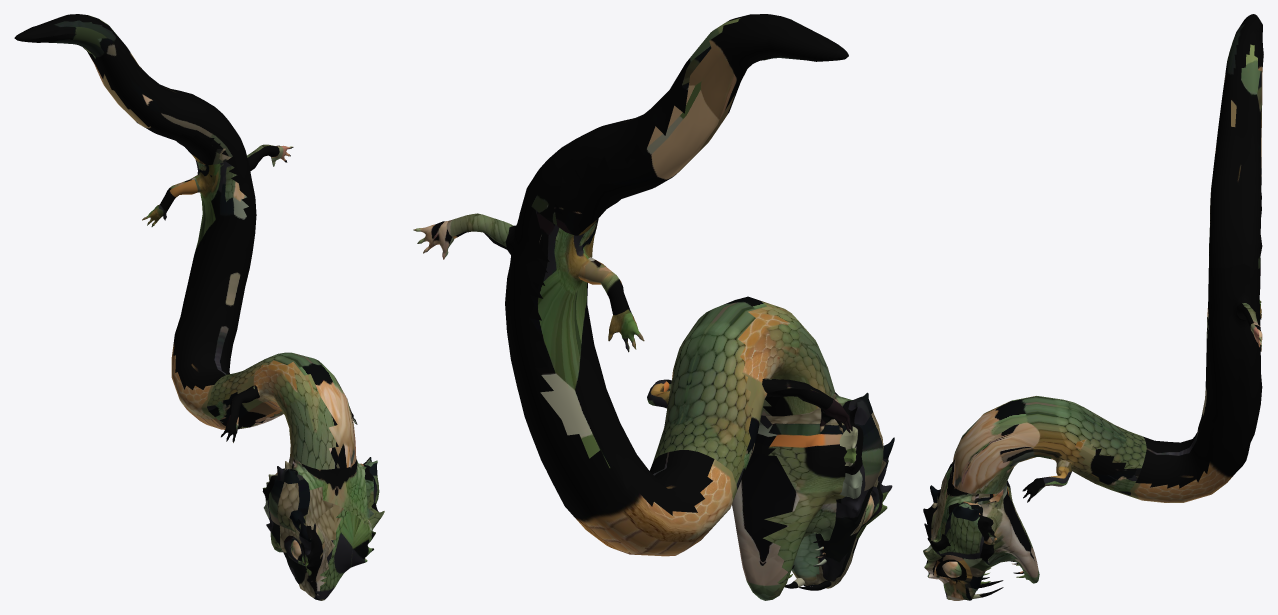
The model's file is lizard.glb.
3 renders of one model, left to right at view 1: azimuth 30°, elevation 25°; view 2: azimuth 150°, elevation 25°; view 3: azimuth 270°, elevation 25°, orthographic. The views are drawn at different scales.
Visible parts, largest first — view 1: geometry_0; view 2: geometry_0; view 3: geometry_0.
Boxes of the visible parts, <box> form: geometry_0: <box>14,14,384,600</box>; geometry_0: <box>413,14,894,600</box>; geometry_0: <box>923,14,1263,600</box>.
Size of the model in its own units: 0.5853 by 1 by 0.5964.
Materials: 1 (1 with a texture image).
